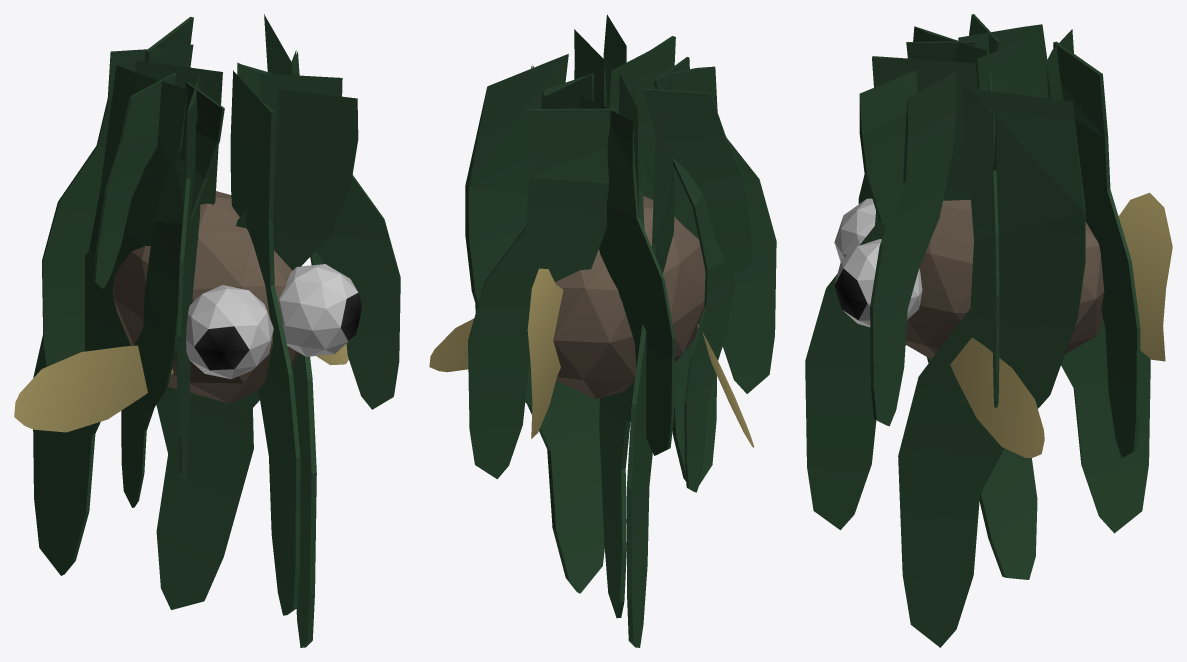
The model's file is hidden_fish.glb.
3 views of the same model, side by side, from view 1: azimuth 30°, elevation 25°; view 2: azimuth 150°, elevation 25°; view 3: azimuth 270°, elevation 25° (orthographic). The views are drawn at different scales.
Parts seen in each view (by area): view 1: Plane.037, Icosphere.026, Plane.041, Icosphere.023, Icosphere.024; view 2: Plane.037, Icosphere.026, Plane.042, Plane.038, Plane.041; view 3: Plane.037, Icosphere.026, Plane.038, Plane.042, Icosphere.024, Icosphere.023.
Boxes of the visible parts, x1,y1,x2,y2 form: Plane.037: (33,14,400,647); Icosphere.026: (112,191,299,403); Plane.041: (14,345,173,432); Icosphere.023: (186,285,273,379); Icosphere.024: (278,264,361,356); Plane.037: (465,14,776,647); Icosphere.026: (553,196,705,398); Plane.042: (527,268,563,438); Plane.038: (429,318,474,372); Plane.041: (697,323,753,447); Plane.037: (805,14,1150,647); Icosphere.026: (905,199,1104,359); Plane.038: (950,337,1044,457); Plane.042: (1118,192,1172,361); Icosphere.024: (834,239,922,327); Icosphere.023: (834,198,875,261).
Bounding box in the file's own units: 0.7328 × 1.18 × 0.7026.
8 materials, 8 textured.
